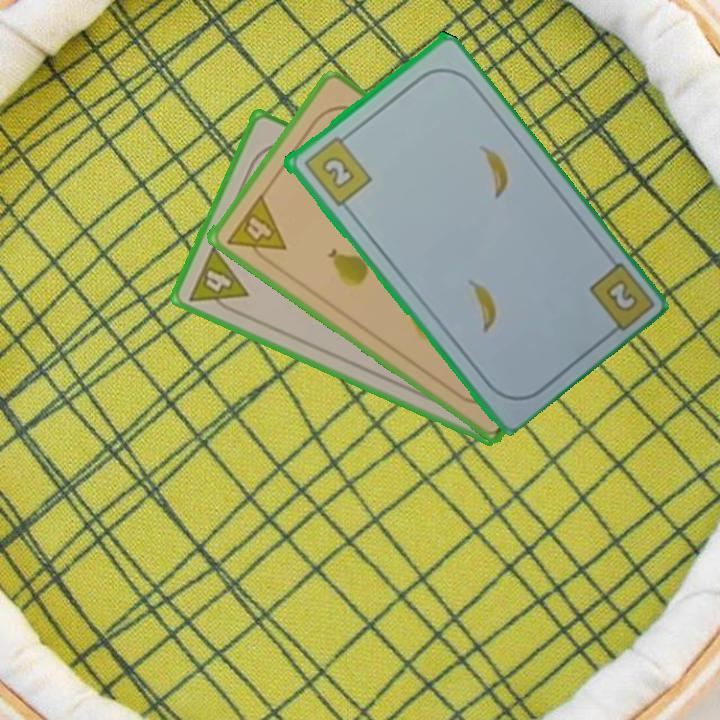2b: (299, 129, 374, 209), (601, 275, 641, 315)
4p: (223, 190, 289, 269), (184, 242, 251, 319)
